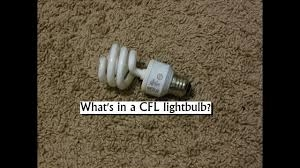glass: (96, 40, 192, 99)
